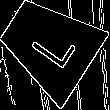L_NW: (21, 18, 77, 73)
